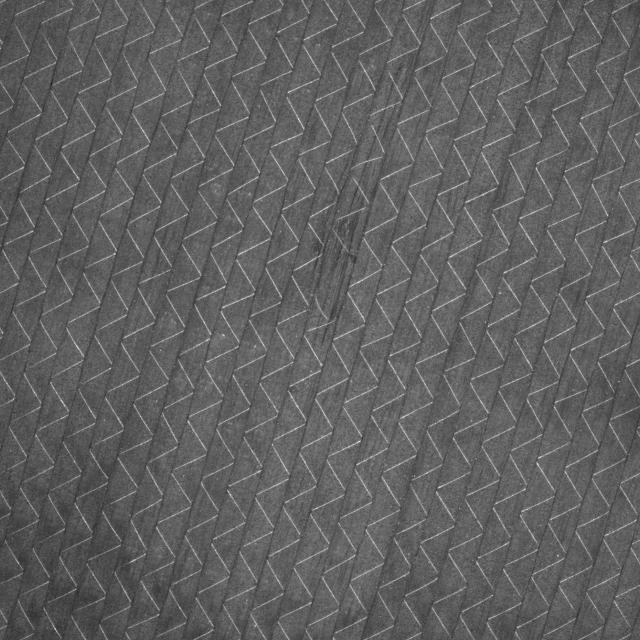carbon-fibre-defect: (300, 197, 387, 320)
